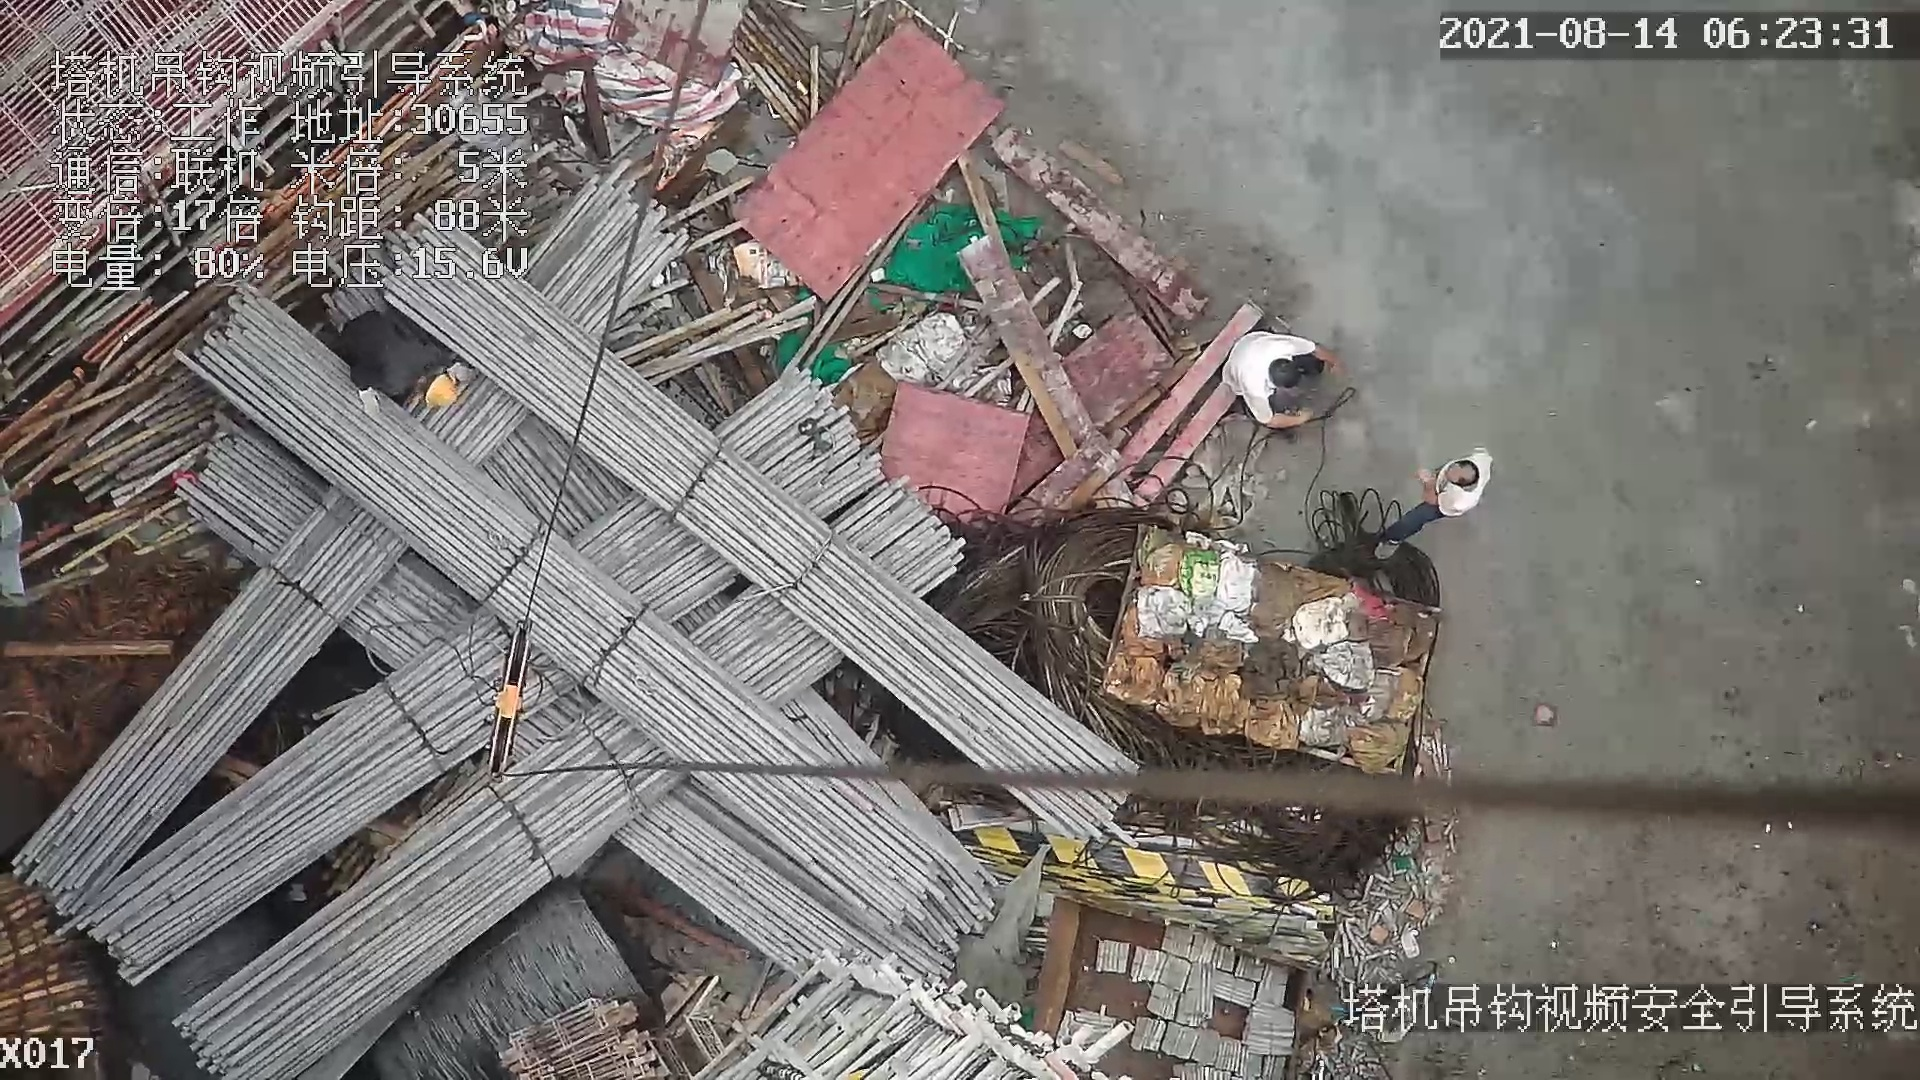helmet: (425, 376, 459, 412)
hook: (479, 613, 541, 786)
person: (1383, 442, 1496, 554), (1217, 328, 1337, 430), (344, 311, 452, 415)
rebar: (173, 287, 933, 919), (367, 279, 1138, 833), (12, 516, 365, 915), (174, 780, 647, 1079), (78, 666, 486, 987)
wood: (1, 877, 92, 1035)
